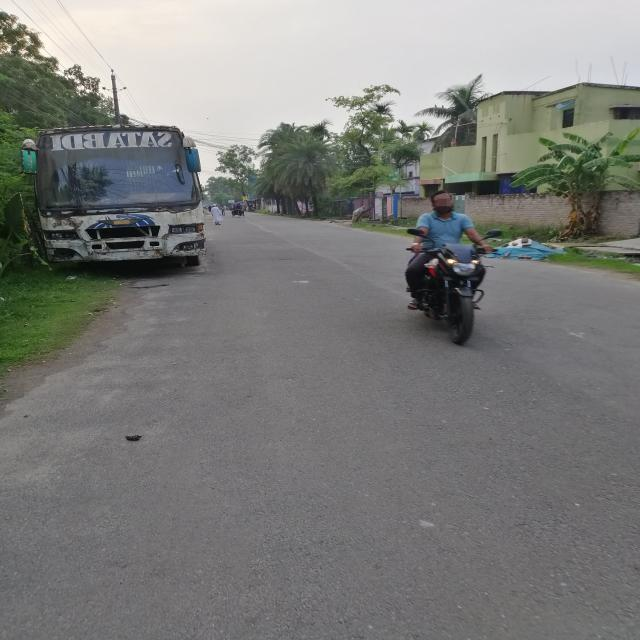Bus: (1, 105, 236, 272)
Motorbike: (363, 222, 515, 363)
